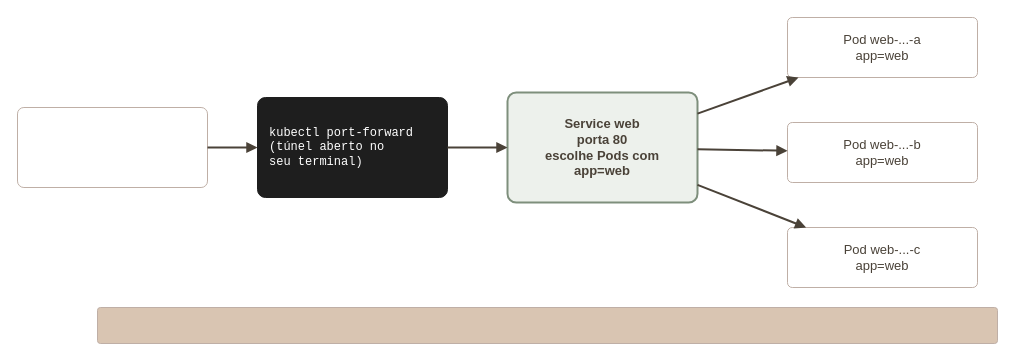
Some shapes in this 1015 by 361 pixel diagram are drawn without their labels. The box of each missing label's shape, as (x1, y1, x2, y2) in pixels:
Navegador http://localhost:8080: (16, 106, 208, 188)
O Service dá um ponto de acesso estável: os Pods podem mudar, o endereço não.: (96, 306, 998, 344)
